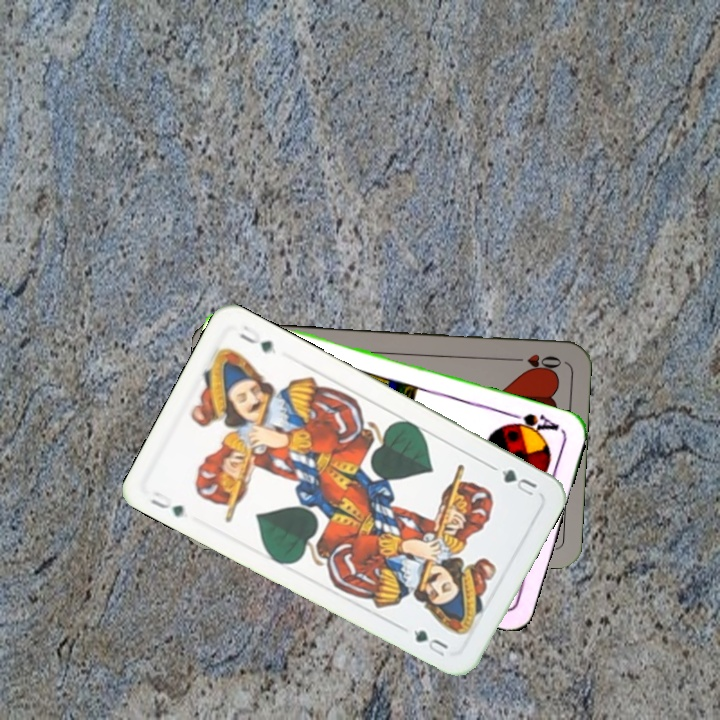GU: (497, 465, 540, 499), (146, 487, 187, 520)
HO: (506, 350, 564, 373)
SA: (502, 408, 562, 439)
